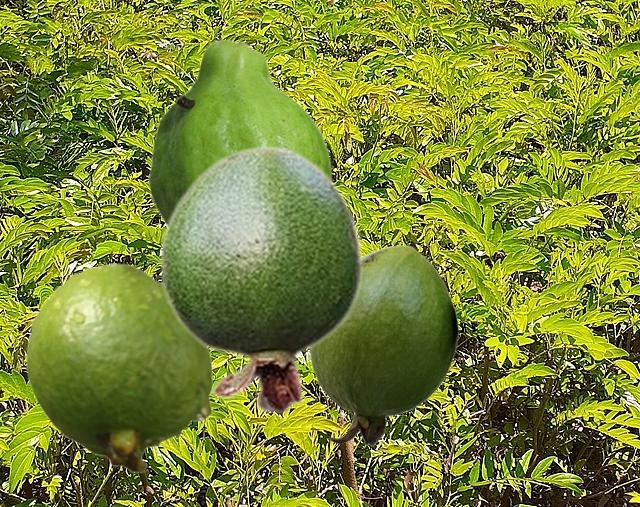guava: (158, 144, 364, 415), (25, 262, 212, 472), (147, 38, 331, 222), (309, 245, 458, 445)
